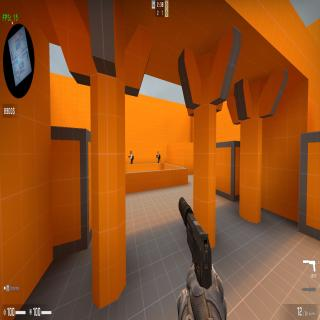T-Body: (157, 153, 160, 163), (130, 154, 133, 164)
T-Head: (130, 150, 132, 154), (158, 151, 158, 154)
